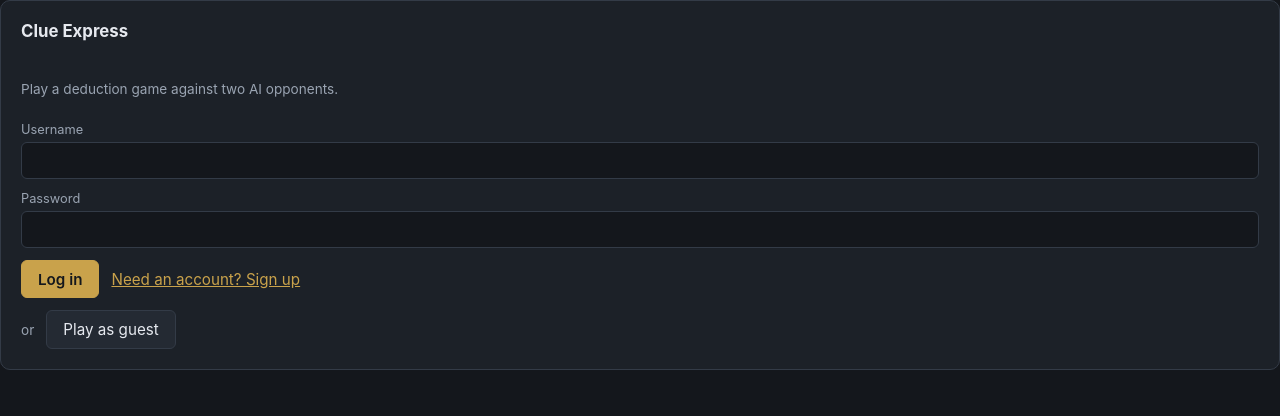
Scenario: LandingScreen › shows a friendly error message on failed login
In the field labelled "Username": (640, 160) [21, 142, 1259, 179], type "alice"
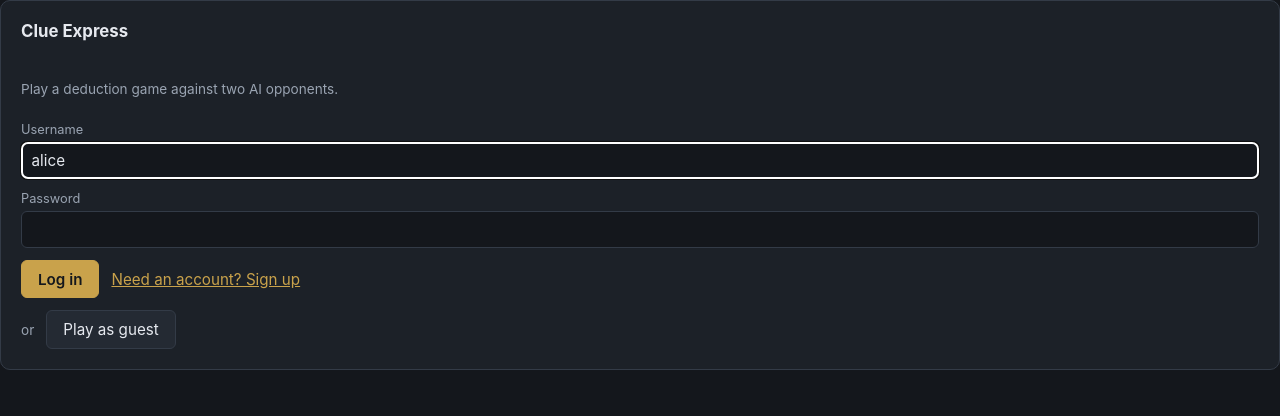
In the password field labelled "Password": (640, 229) [21, 211, 1259, 248], type "wrong-password"
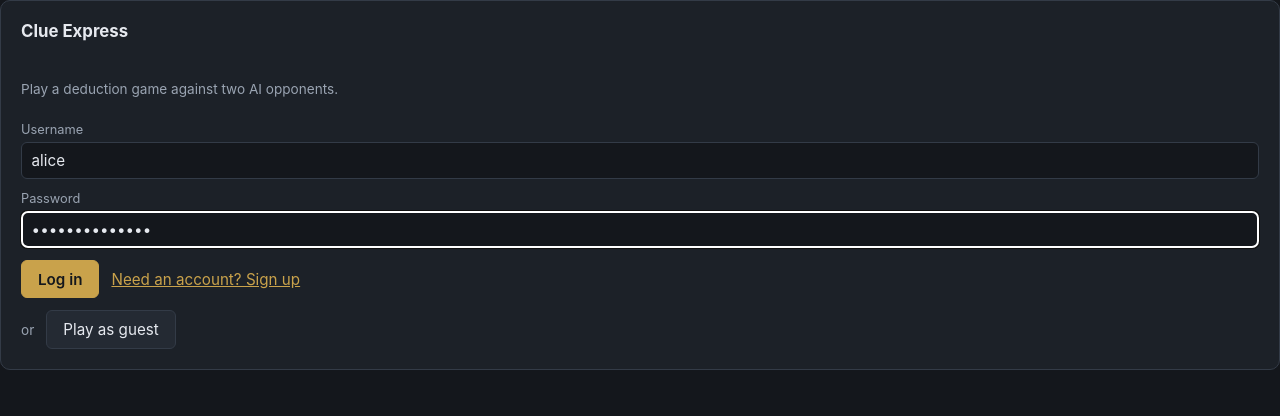
Click the button "Log in": (60, 279) [21, 260, 99, 298]
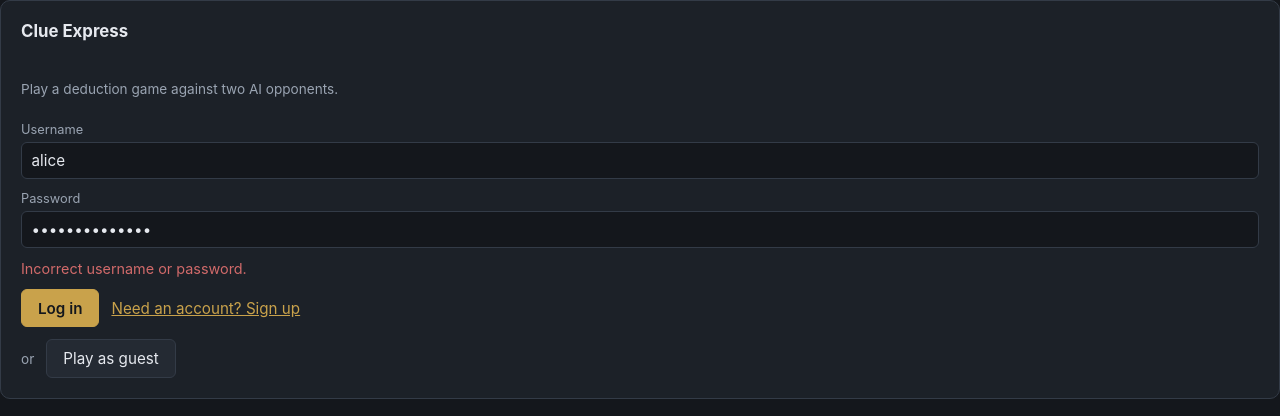
Now the text "Incorrect username or password." is shown, box [21, 260, 247, 277]
